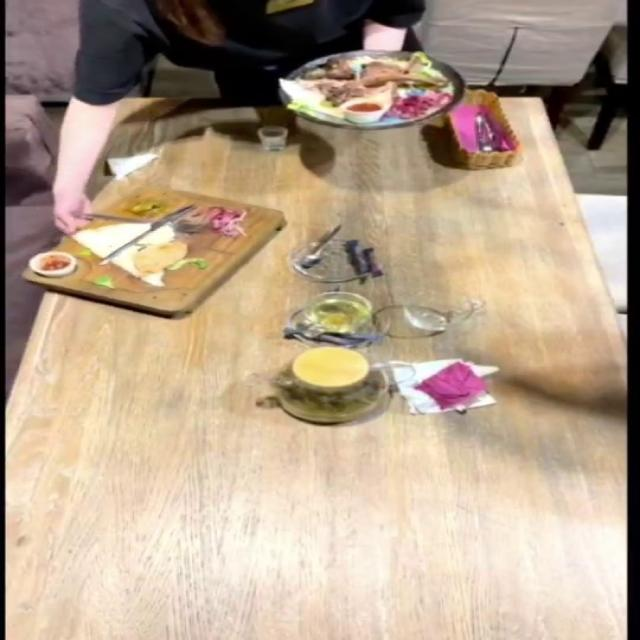meat: (212, 60, 534, 129)
tea: (239, 346, 418, 416)
